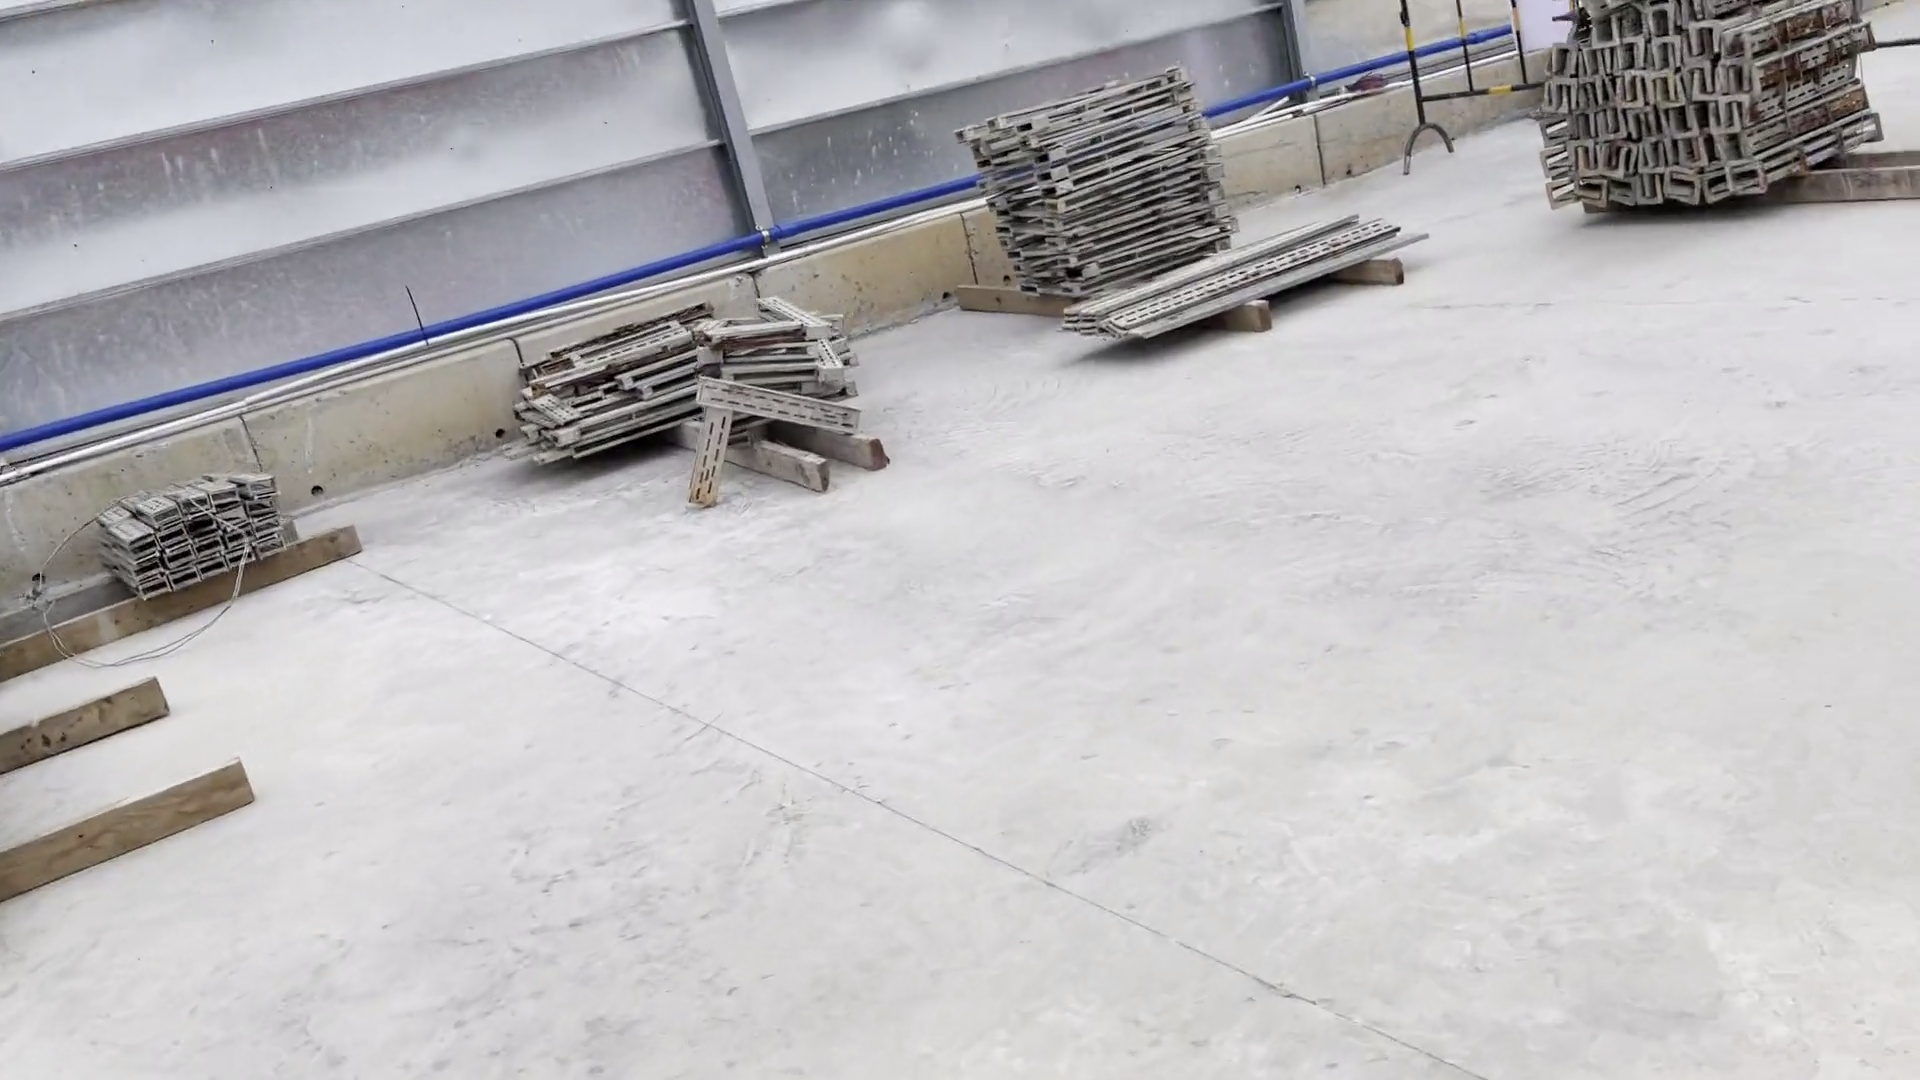fence: (1371, 1, 1557, 178)
